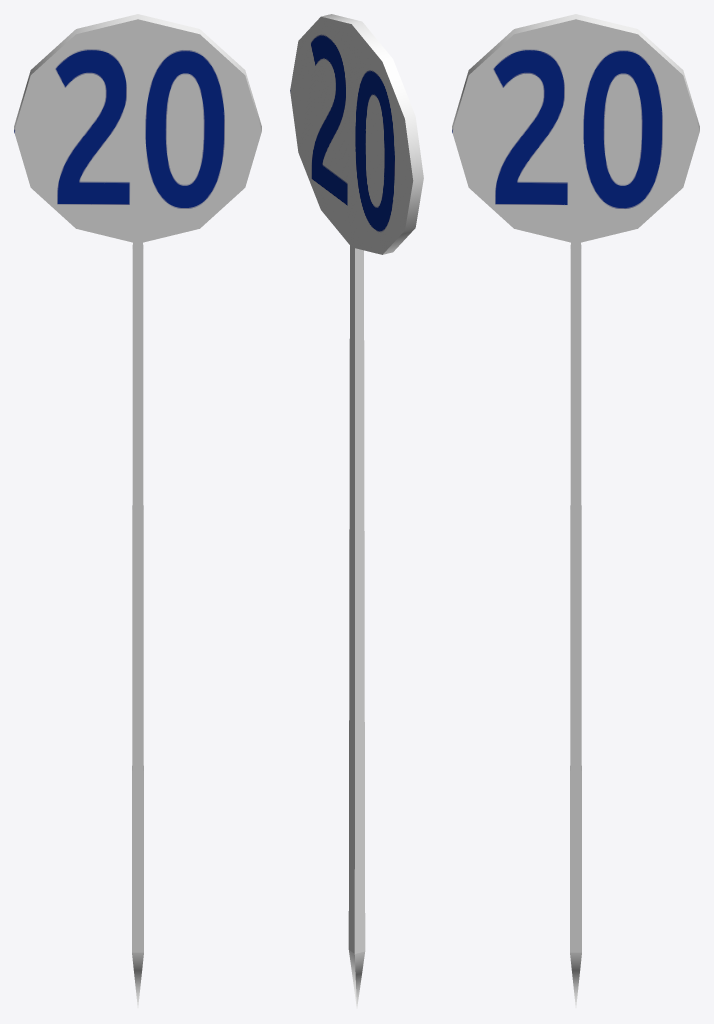
File: Marker_Shot_Put_20.FBX
3 renders of one model, left to right at view 1: azimuth 90°, elevation 25°; view 2: azimuth 210°, elevation 25°; view 3: azimuth 270°, elevation 25°, orthographic.
Parts seen in each view (by area): view 1: Marker_Shot_Put_20; view 2: Marker_Shot_Put_20; view 3: Marker_Shot_Put_20.
Boxes of the visible parts, box(x1,y1,x2,y2) form: Marker_Shot_Put_20: box(14, 14, 261, 1007); Marker_Shot_Put_20: box(290, 14, 423, 1008); Marker_Shot_Put_20: box(452, 14, 699, 1007).
Bounding box in the file's own units: 0.1115 × 9.84 × 2.22.
